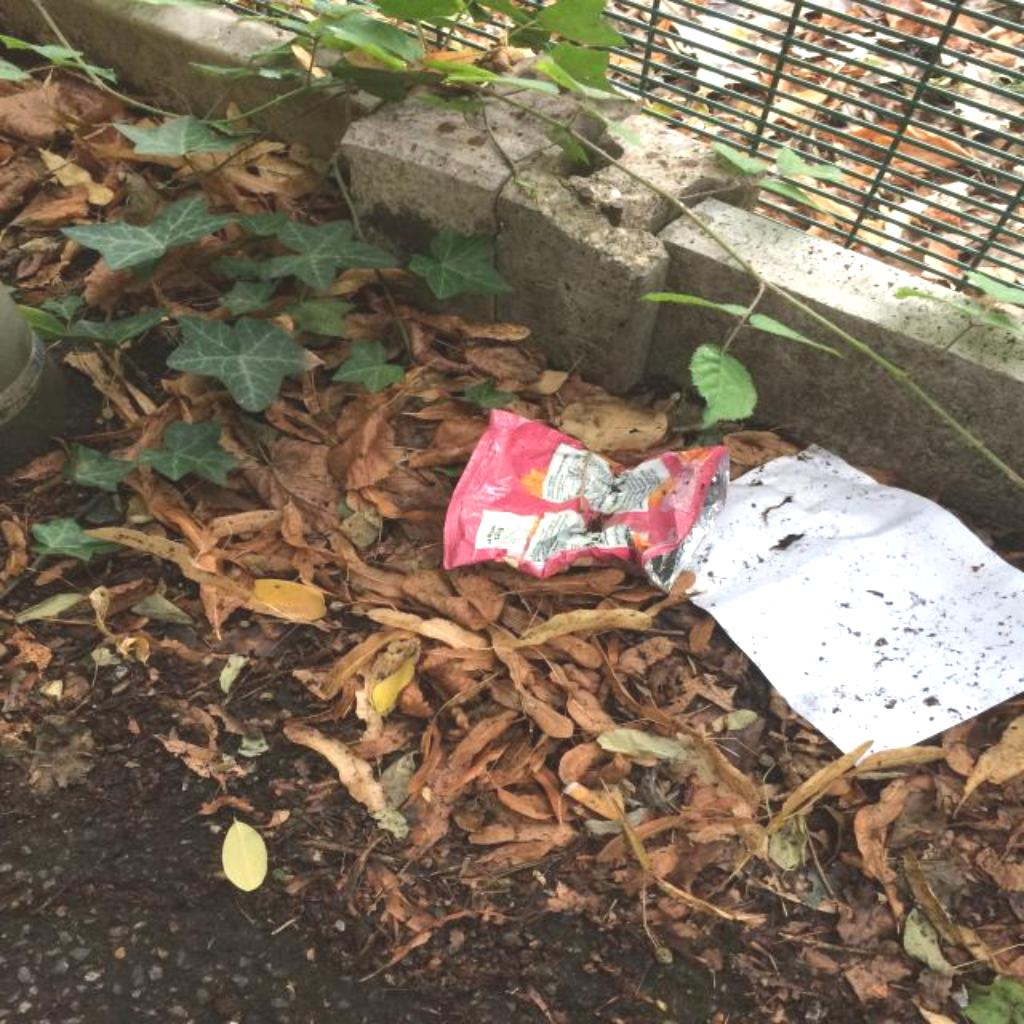garbage: (442, 408, 715, 579)
